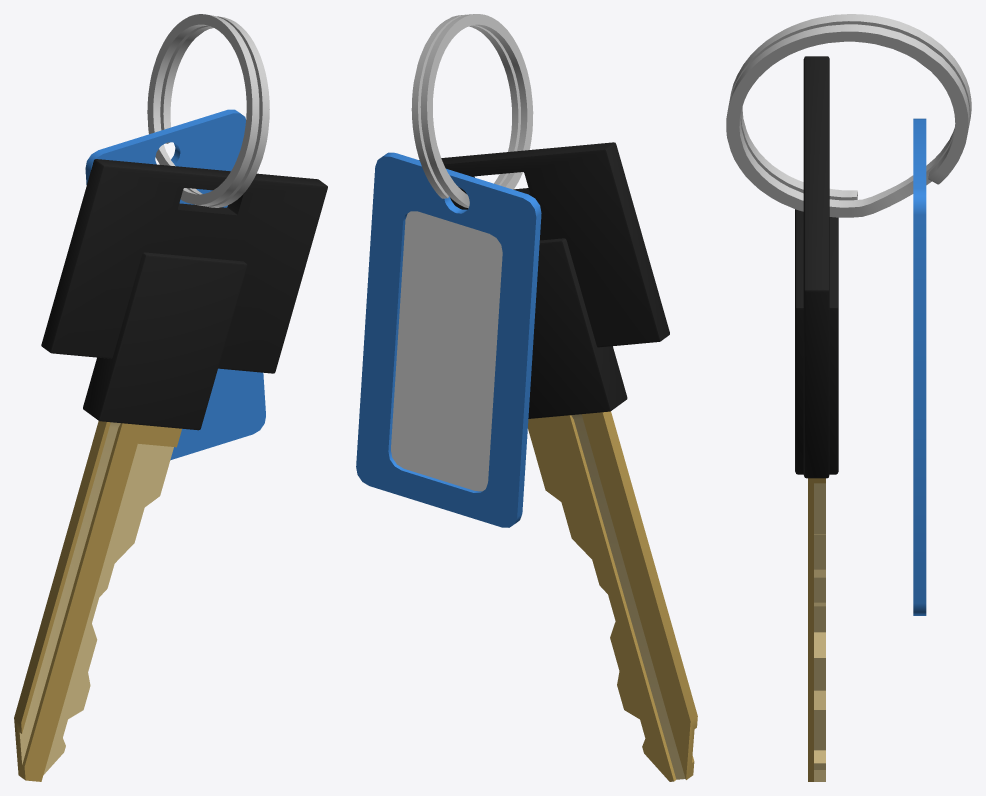
The model's file is Key2.001.fbx.
3 renders of one model, left to right at view 1: azimuth 30°, elevation 25°; view 2: azimuth 150°, elevation 25°; view 3: azimuth 270°, elevation 25°, orthographic. The views are drawn at different scales.
Visible parts, largest first — view 1: Key11_with_tag.001; view 2: Key11_with_tag.001; view 3: Key11_with_tag.001.
Part boxes in pixels (left/top/right/bottom): Key11_with_tag.001: left=14, top=14, right=327, bottom=781; Key11_with_tag.001: left=356, top=14, right=697, bottom=781; Key11_with_tag.001: left=726, top=14, right=971, bottom=781.
Size of the model in its own units: 0.5812 by 1.27 by 0.3187.
1 material, 1 textured.
